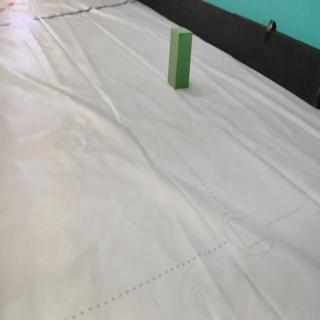greenbox: (168, 27, 193, 91)
